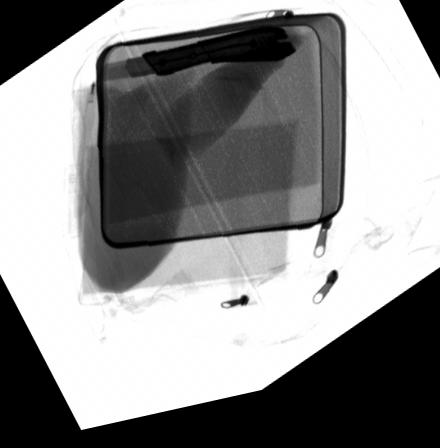Knife: (94, 36, 298, 86)
